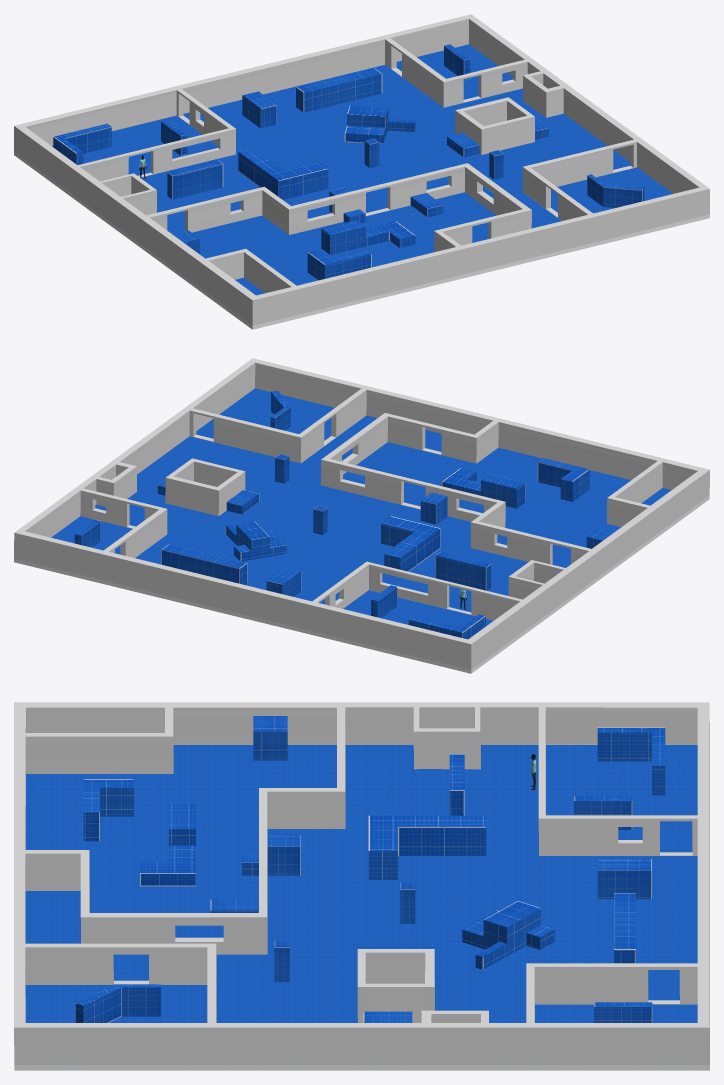
The model's file is blockout_greybox_shooter_level_design_game_map.glb.
3 views of the same model, one above another, from view 1: azimuth 30°, elevation 25°; view 2: azimuth 150°, elevation 25°; view 3: azimuth 270°, elevation 25° (orthographic). The views are drawn at different scales.
Visible parts, largest first — view 1: Plane.006; view 2: Plane.006; view 3: Plane.006.
Boxes of the visible parts, box(x1,y1,x2,y2) form: Plane.006: box(14, 14, 709, 329); Plane.006: box(14, 358, 709, 673); Plane.006: box(14, 702, 709, 1070).
Bounding box in the file's own units: 3.74 × 0.2299 × 3.38.
Materials: 5 (3 with a texture image).
